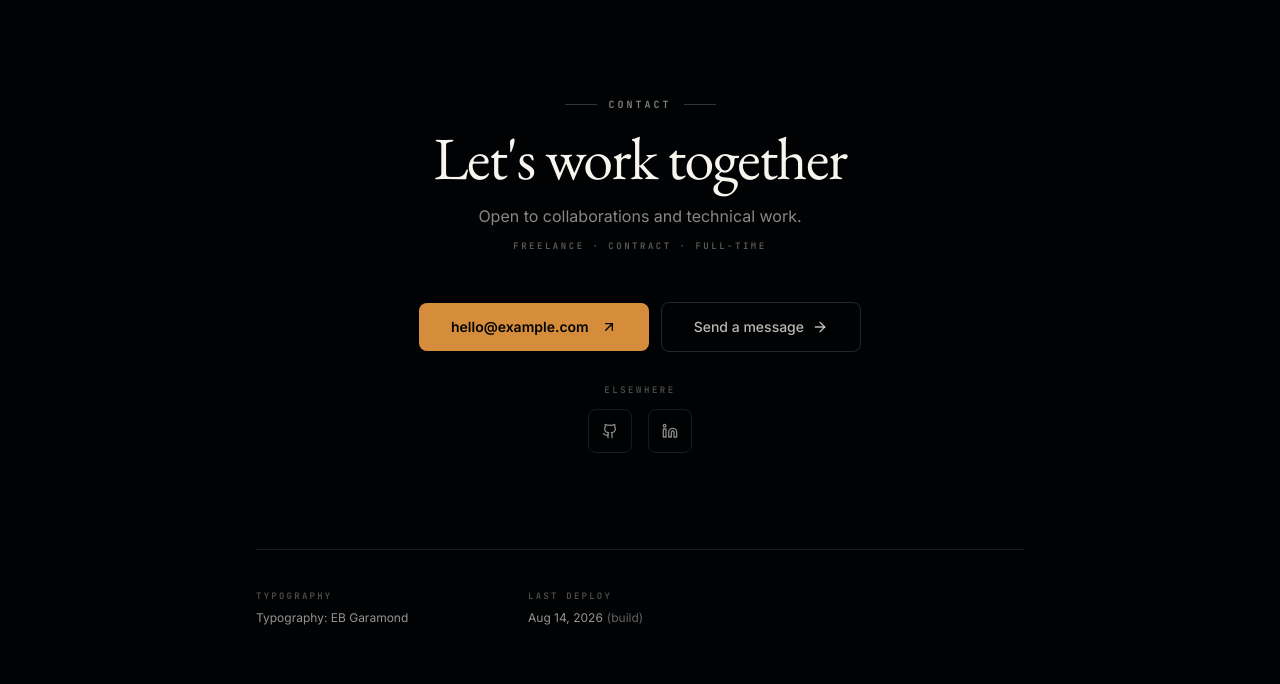
Test: Contact section › shows validation error for short message
The image size is (1280, 684).
Click the button "Send a message": [761, 326] box [661,302,861,352]
(page scrolled)
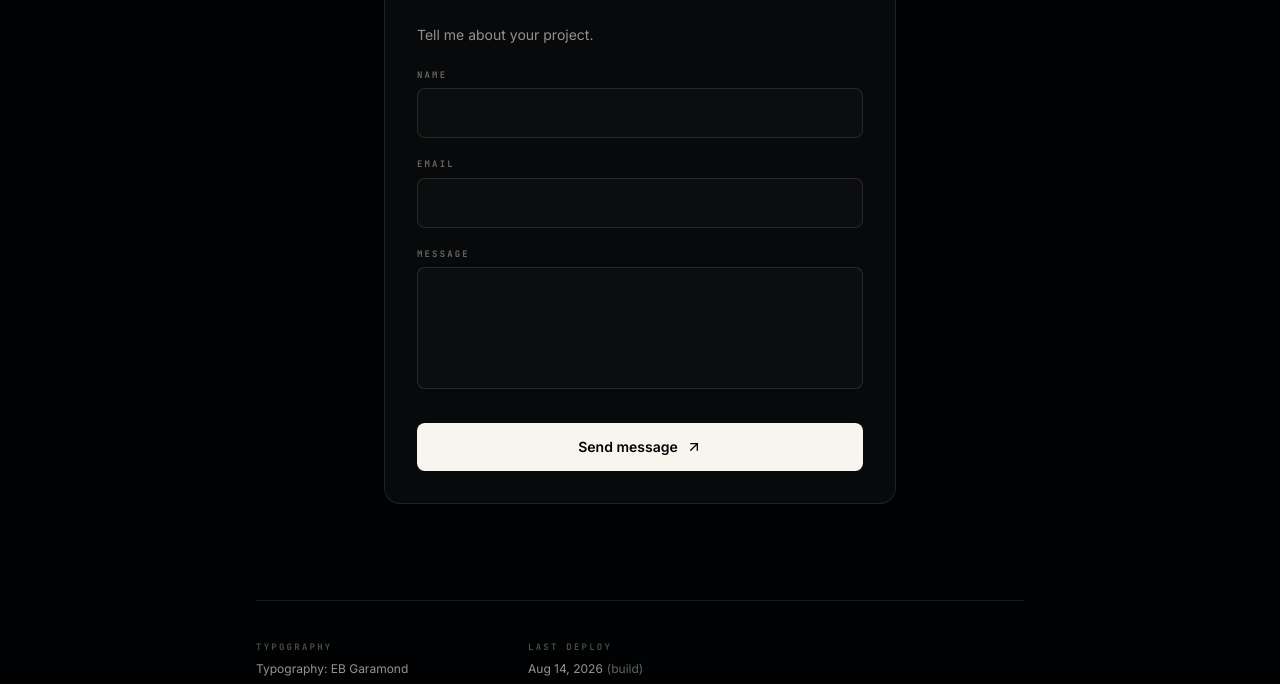
In the text box labelled "Message": [640, 328] box [417,267,863,389], type "Hi"
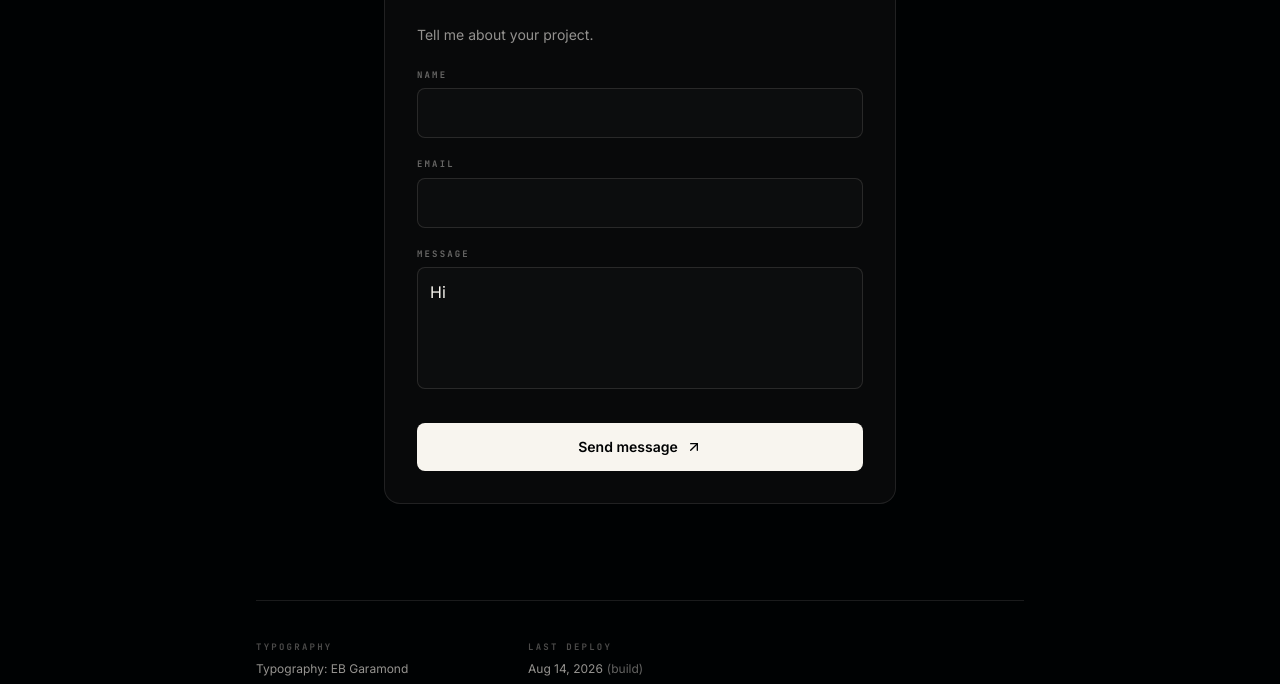
Leave the text box labelled "Message", box [417,267,863,389]
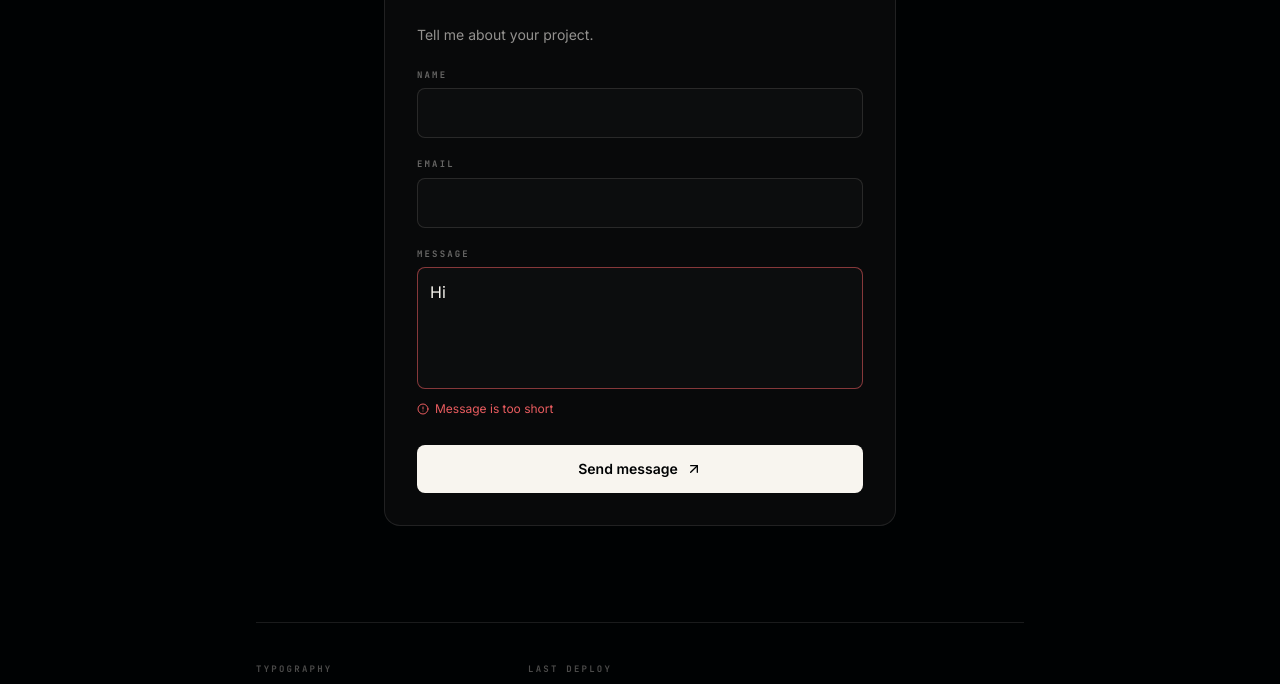
Result: the text "Message is too short" is shown at [417,401,553,416]
